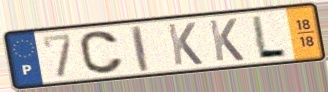7: (40, 32, 74, 80)
C: (77, 30, 126, 76)
I: (129, 23, 152, 74)
K: (206, 17, 246, 64), (165, 21, 205, 67)
L: (250, 14, 289, 59)
